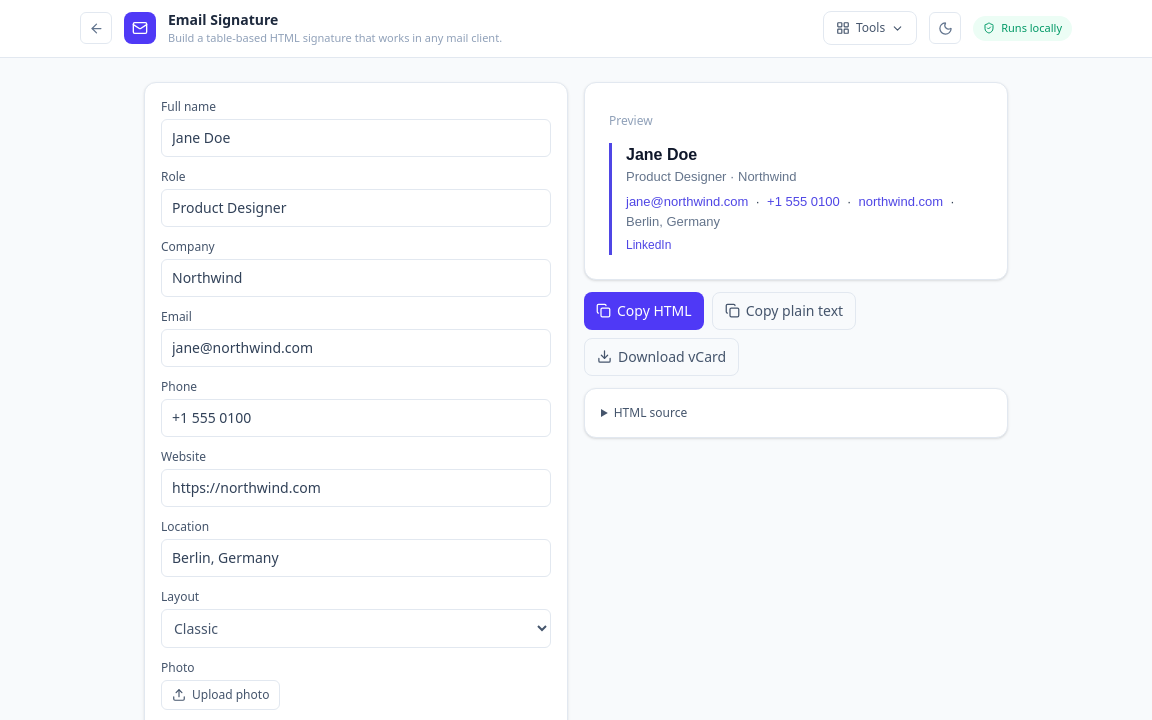
Test: SignatureApp › reflects a changed name in the preview
The image size is (1152, 720).
Replace the text in the field labelled "Full name" with "Grace Hopper" at (356, 138), box [161,118,551,156]
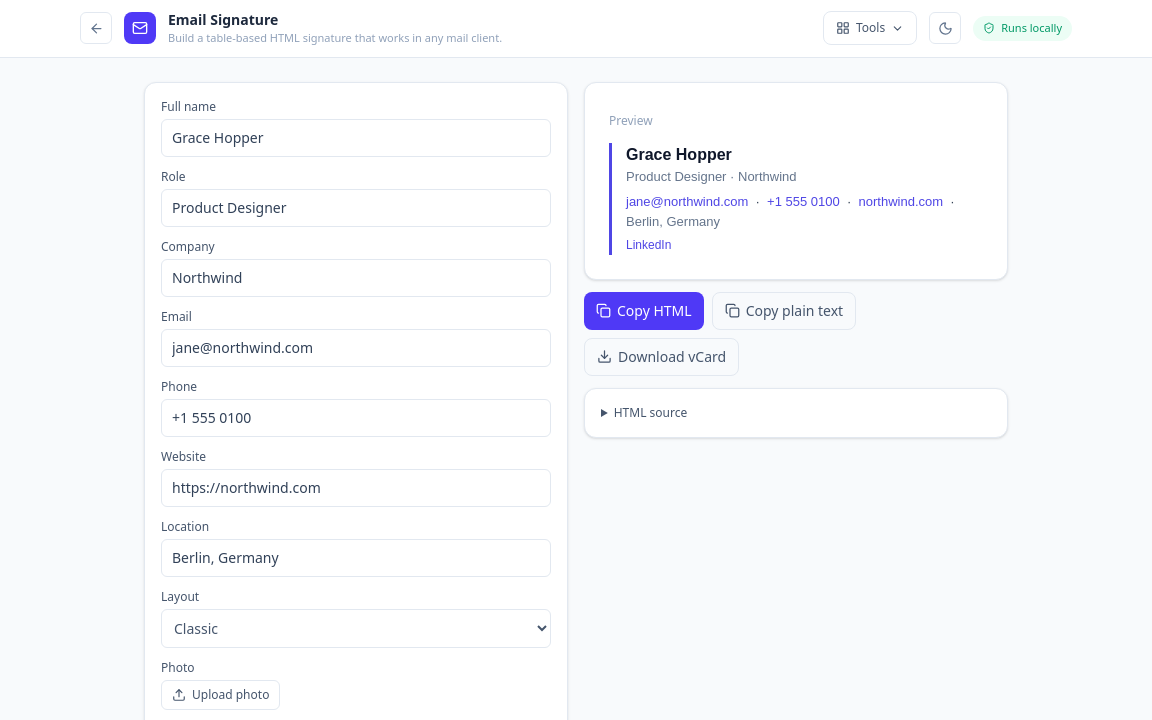
Check: the text "Grace Hopper" is shown, box [626,146,732,162]
